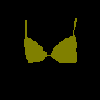reggiseno: (24, 18, 77, 63)
